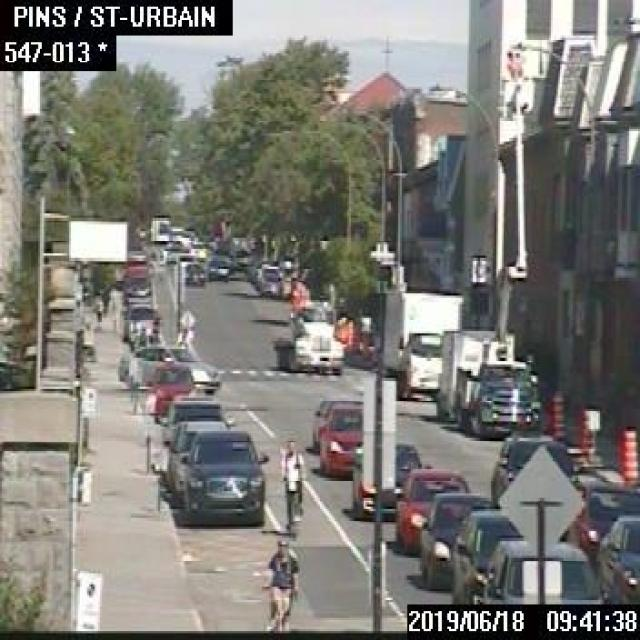construction: (617, 424, 638, 489), (578, 411, 596, 465), (549, 393, 566, 442)
cyclist: (258, 531, 296, 631)
pedestrian: (281, 438, 302, 531), (91, 294, 103, 332), (108, 289, 119, 329)
vehicle: (436, 263, 544, 435), (177, 427, 267, 527), (472, 534, 600, 602), (380, 290, 460, 397), (409, 490, 490, 590), (449, 507, 522, 602), (351, 442, 432, 521), (393, 468, 469, 552), (490, 433, 573, 508), (565, 476, 638, 560), (162, 420, 231, 505), (116, 342, 219, 398), (155, 396, 235, 461), (288, 296, 346, 371), (594, 512, 638, 603), (317, 400, 362, 478), (143, 360, 197, 421), (312, 393, 362, 452), (121, 301, 156, 342), (121, 274, 153, 316), (122, 264, 152, 284), (205, 254, 228, 280), (183, 262, 203, 286)
